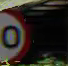Speed limit: (1, 6, 31, 63)
